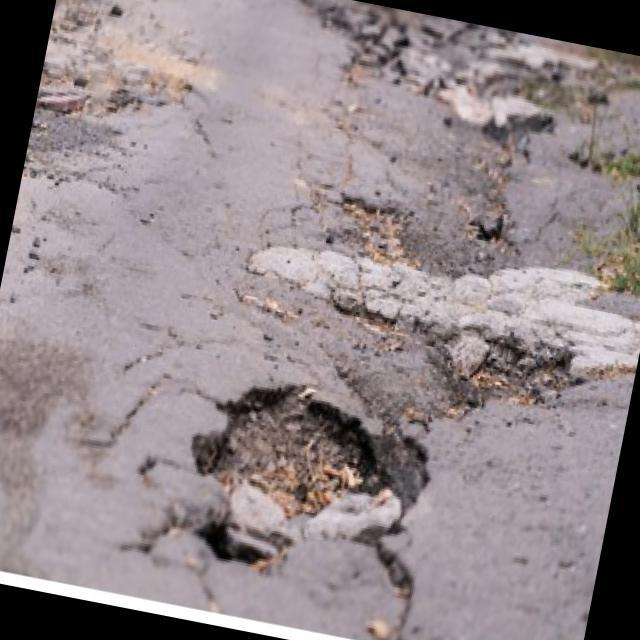Pothole: (164, 358, 407, 590)
